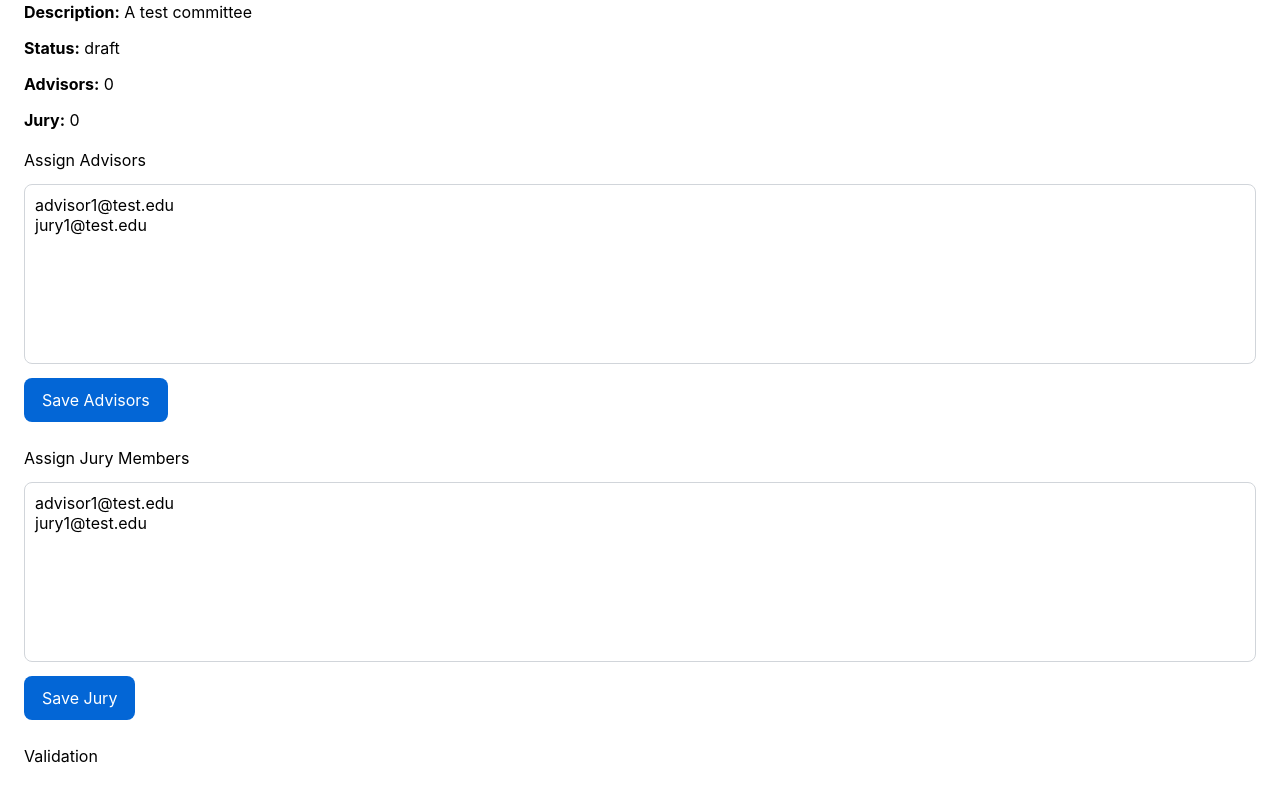
it: CommitteeManagementTab › shows an error when saving advisors with no selection
(page scrolled)
Click the button "Save Advisors". click: click(96, 400)
box: [24, 378, 168, 422]
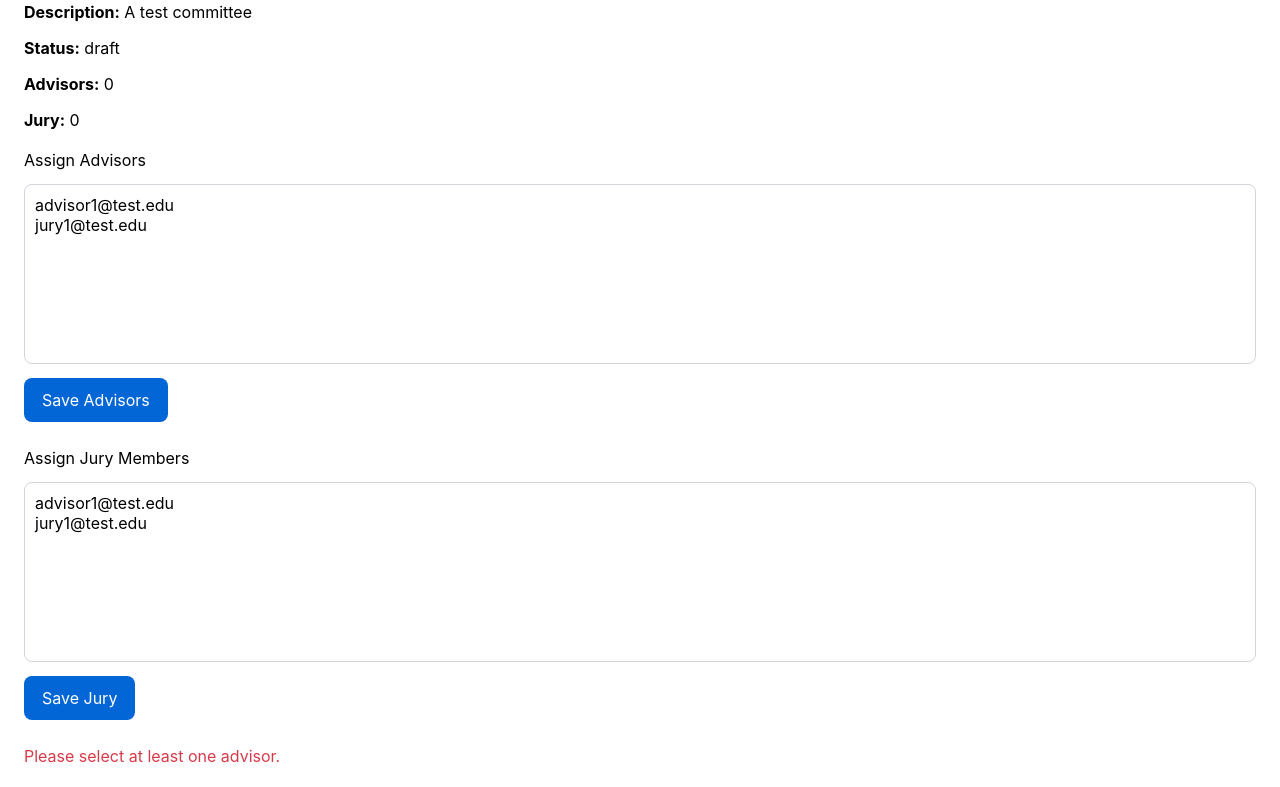
Check: the text "Please select at least one advisor." is shown, box [24, 746, 280, 766]
